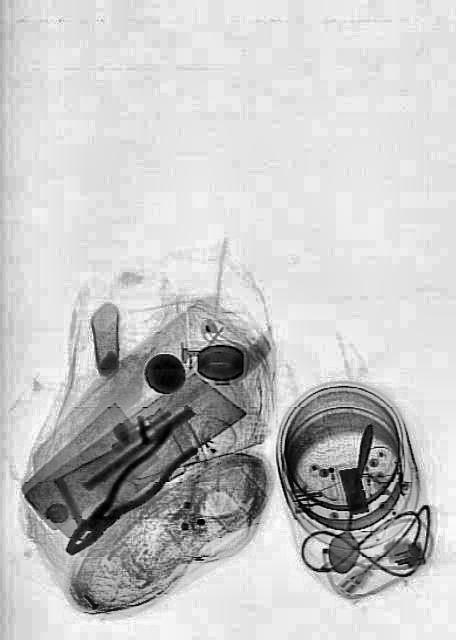Pliers: (54, 411, 198, 574)
